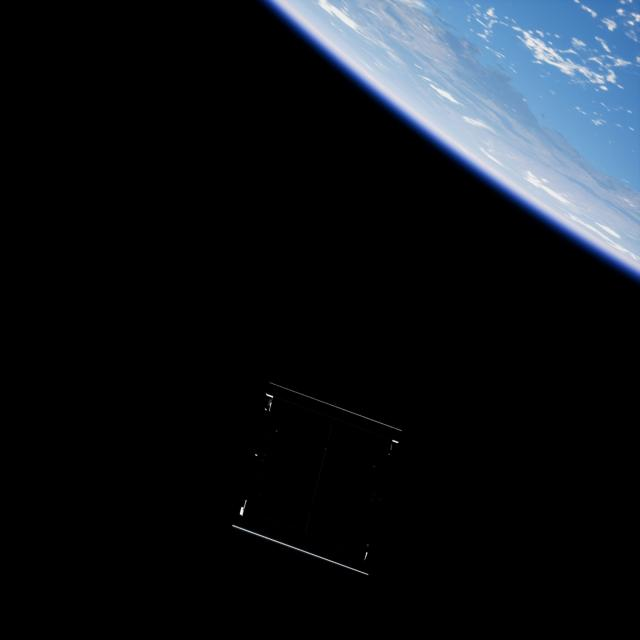medium_debris: (226, 369, 413, 581)
